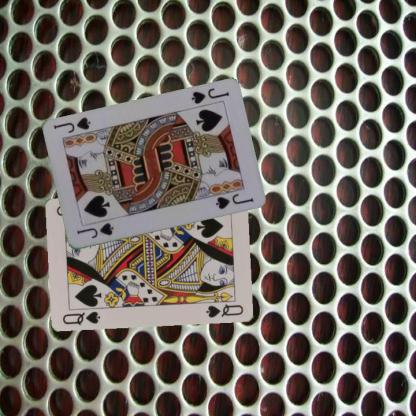Js: (188, 86, 230, 106), (74, 220, 115, 240)
Qs: (60, 308, 102, 326)
